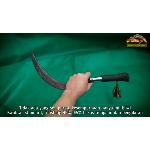Celurit: (26, 46, 132, 96)
